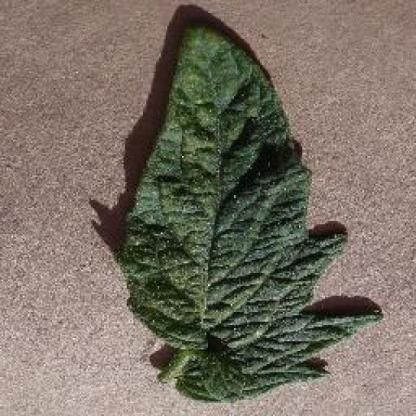Tomato_Spider_Mites: (124, 28, 383, 397)
